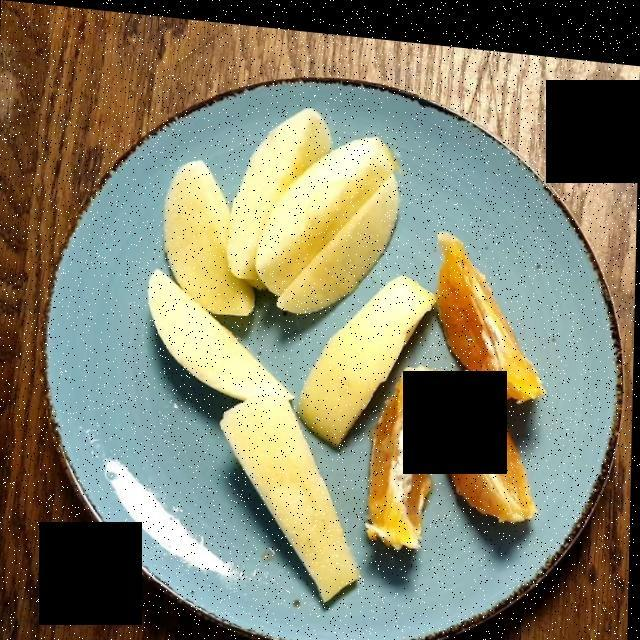apple: (149, 103, 437, 593)
orange: (378, 227, 545, 536)
